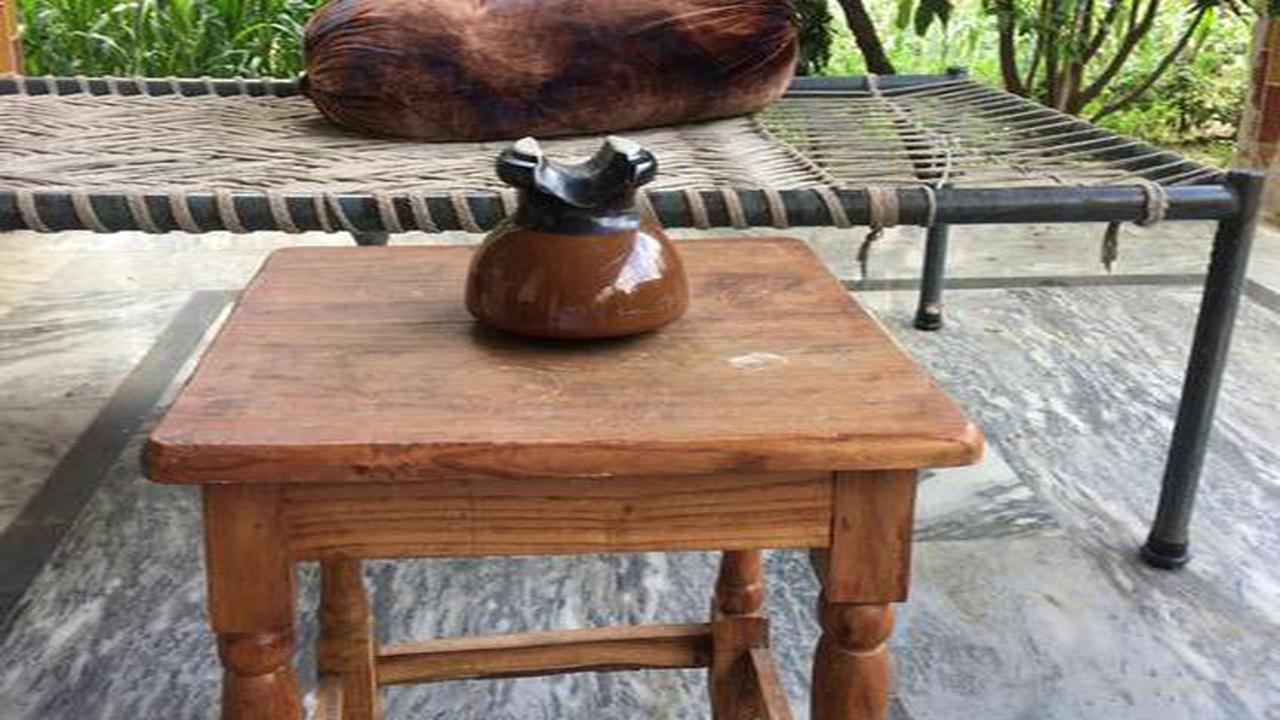insulator_pin: (444, 122, 711, 357)
